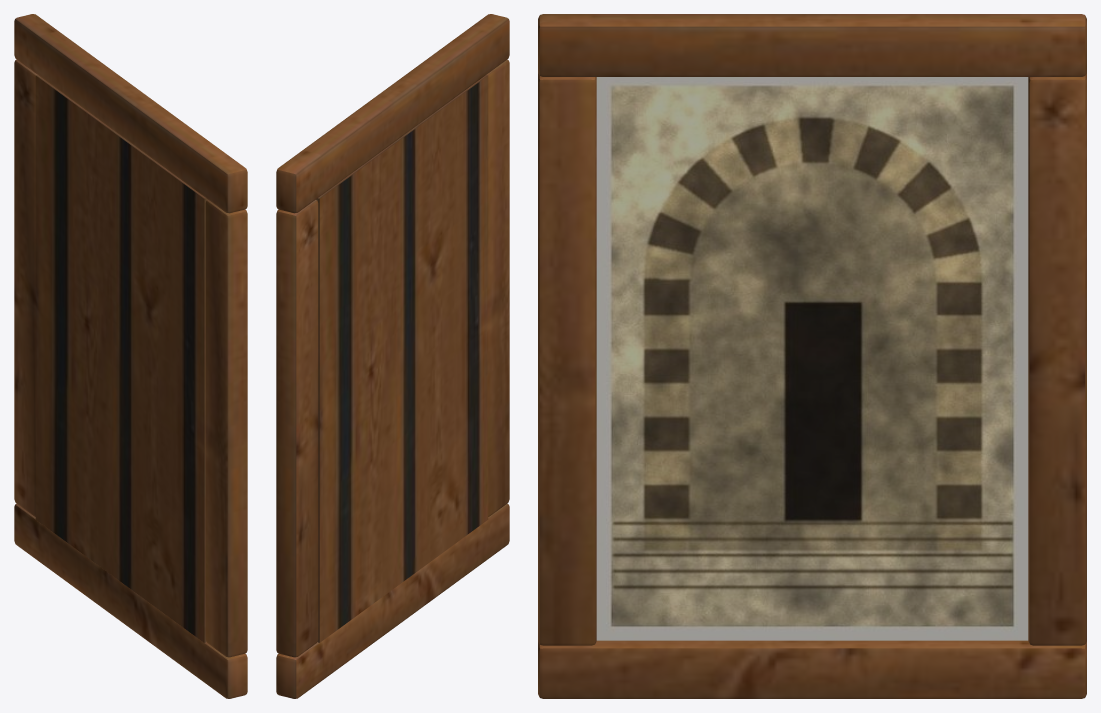
Rendered from rectuE7g9CR4TSf9x.glb.
3 renders of one model, left to right at view 1: azimuth 30°, elevation 25°; view 2: azimuth 150°, elevation 25°; view 3: azimuth 270°, elevation 25°, orthographic. The views are drawn at different scales.
Visible parts, largest first — view 1: cadre_photo_coin_bureau_Corps; view 2: cadre_photo_coin_bureau_Corps; view 3: cadre_photo_coin_bureau_Corps.
Part boxes in pixels (x1,y1,x2,y2): cadre_photo_coin_bureau_Corps: (14,14,247,698); cadre_photo_coin_bureau_Corps: (276,14,509,698); cadre_photo_coin_bureau_Corps: (538,14,1086,698).
Bounding box in the file's own units: 0.025 × 0.57 × 0.42.
2 materials, 2 textured.
